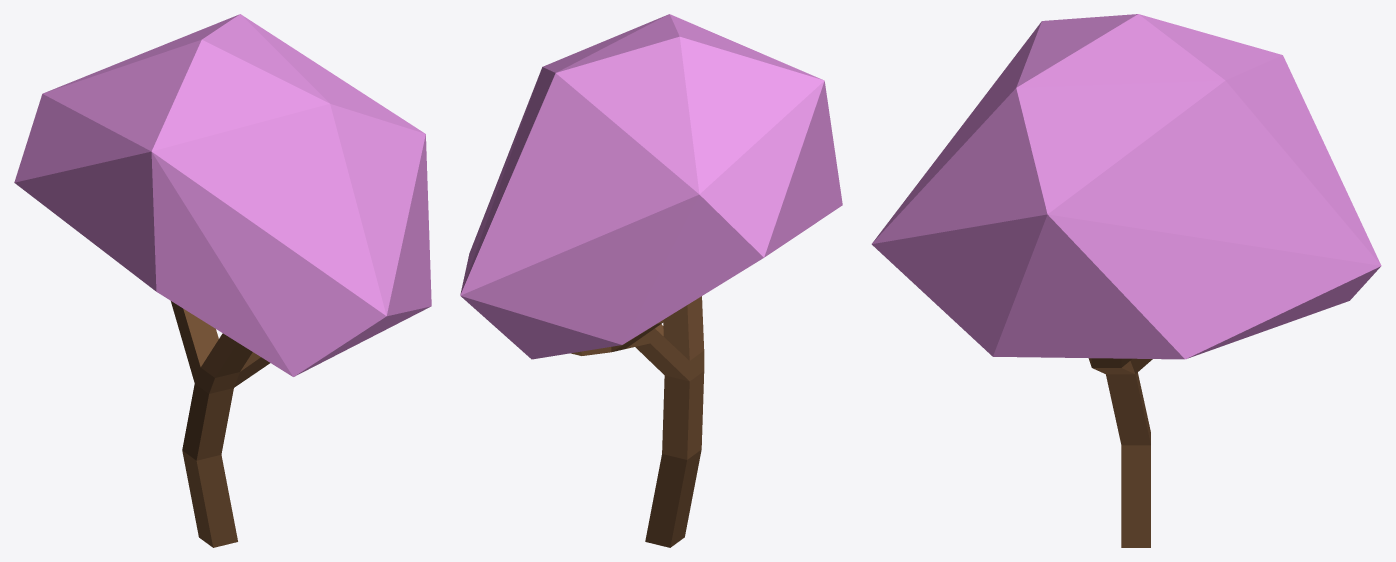
The model's file is Tree.fbx.
3 views of the same model, side by side, from view 1: azimuth 30°, elevation 25°; view 2: azimuth 150°, elevation 25°; view 3: azimuth 270°, elevation 25° (orthographic). The views are drawn at different scales.
Parts seen in each view (by area): view 1: tree; view 2: tree; view 3: tree.
Part boxes in pixels (x1,y1,x2,y2): tree: (14,14,431,547); tree: (460,14,842,547); tree: (871,14,1381,547).
Bounding box in the file's own units: 715 × 1070 × 952.
